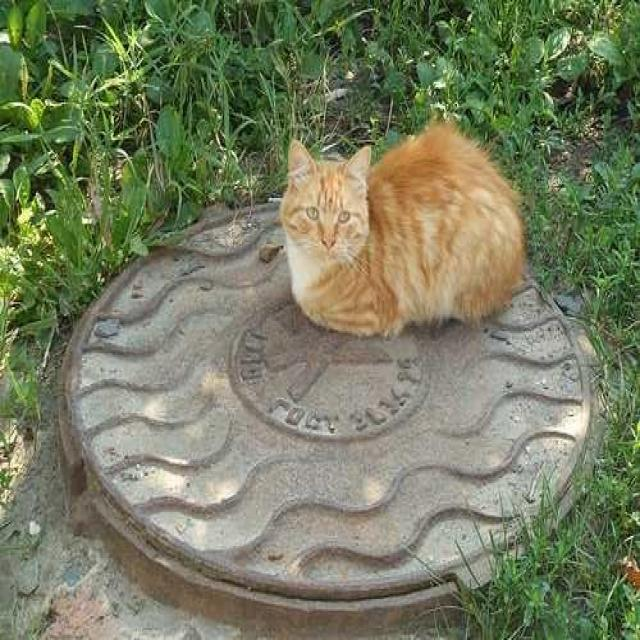manhole: (60, 205, 595, 633)
